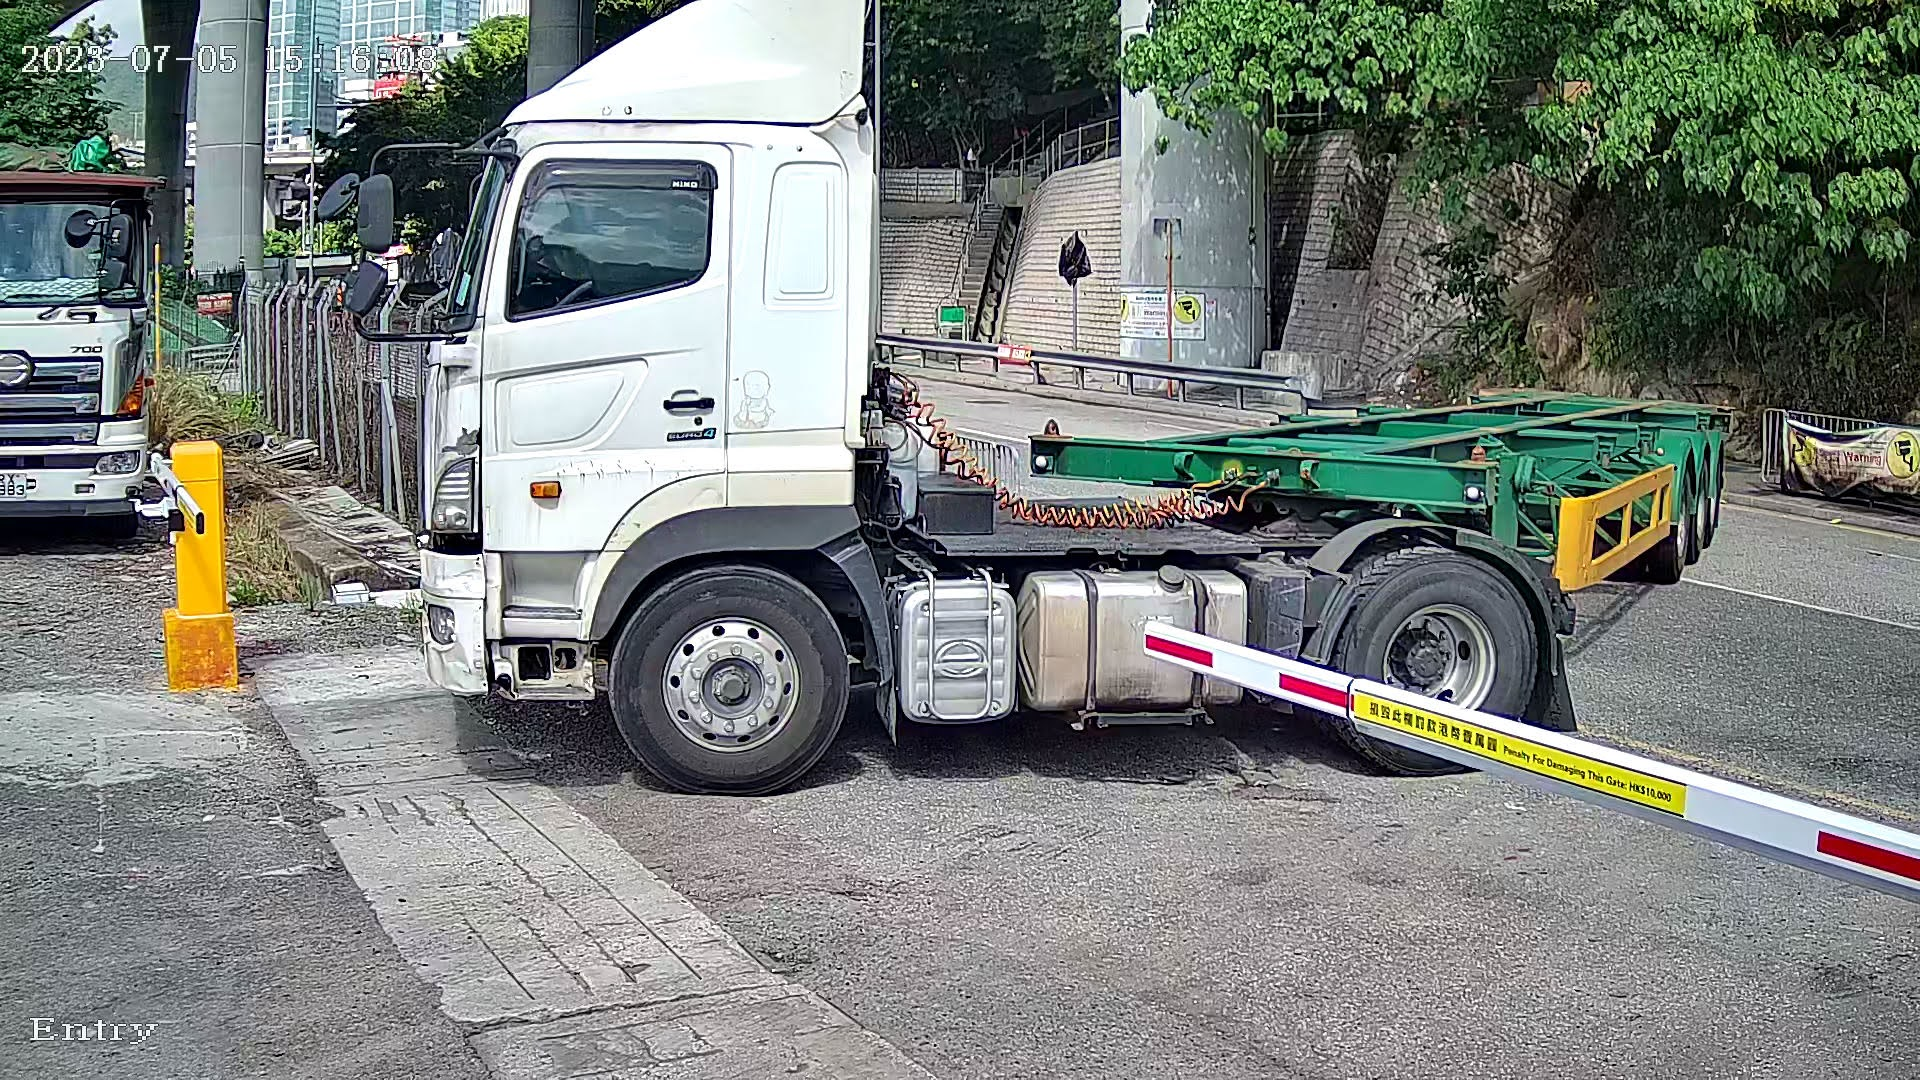truck: (355, 11, 1760, 818)
